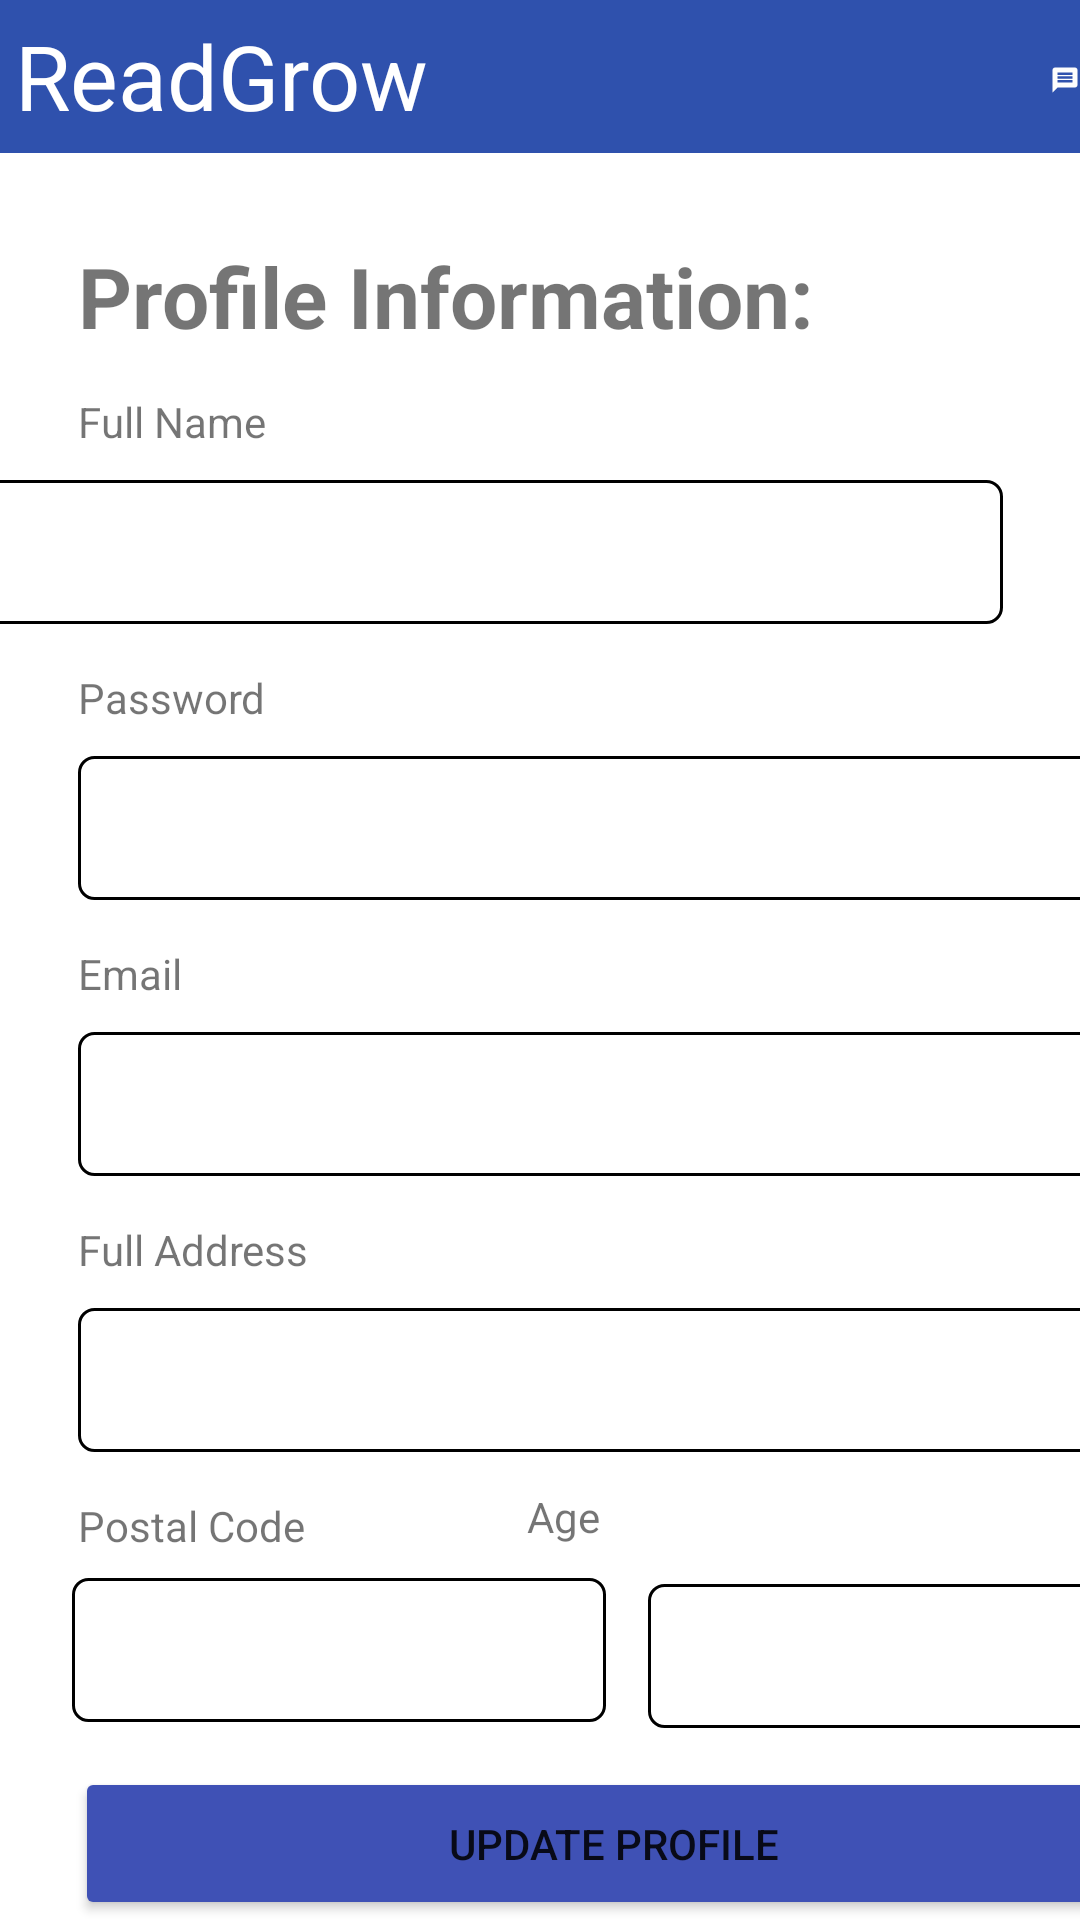

Where to tap for icons on this 1080*1920 app screen, as point (x, y):
Message: point (1065, 80)
